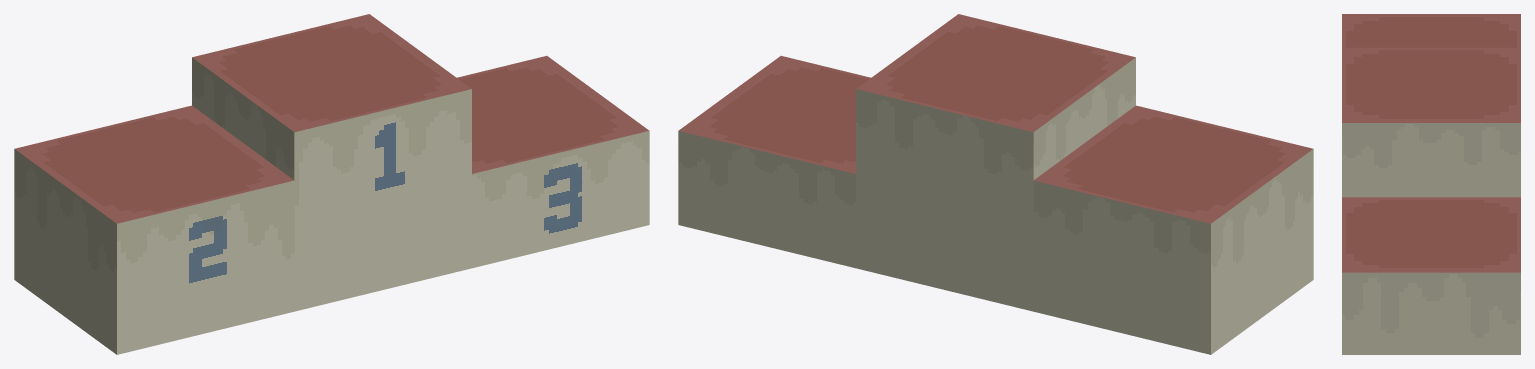
Rendered from 03b9_Winners_Podium.glb.
The picture shows the model from 3 angles, left to right: view 1: azimuth 30°, elevation 25°; view 2: azimuth 150°, elevation 25°; view 3: azimuth 270°, elevation 25°; orthographic projection. The views are drawn at different scales.
Parts seen in each view (by area): view 1: part_0; view 2: part_0; view 3: part_0.
Part boxes in pixels (x1,y1,x2,y2): part_0: (14, 14, 649, 354); part_0: (678, 14, 1313, 354); part_0: (1342, 14, 1520, 354).
Size of the model in its own units: 1.99 by 0.6413 by 0.6643.
1 material, 1 textured.
